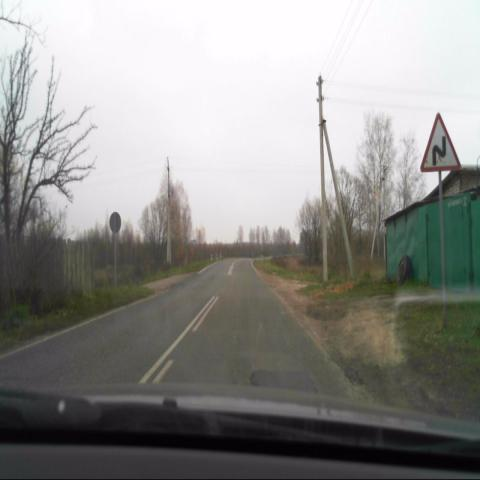1_12: (420, 111, 462, 172)
